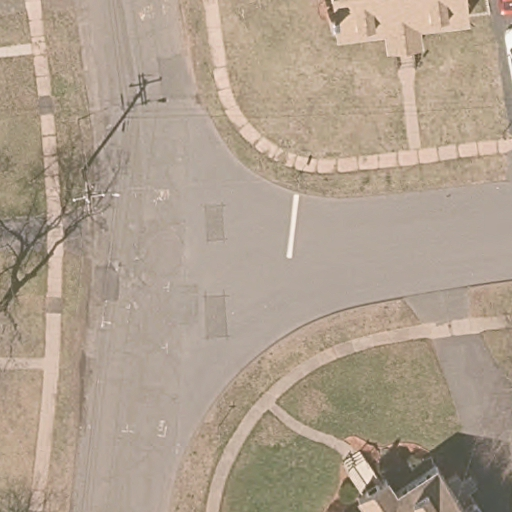DT: (69, 168, 121, 216)
